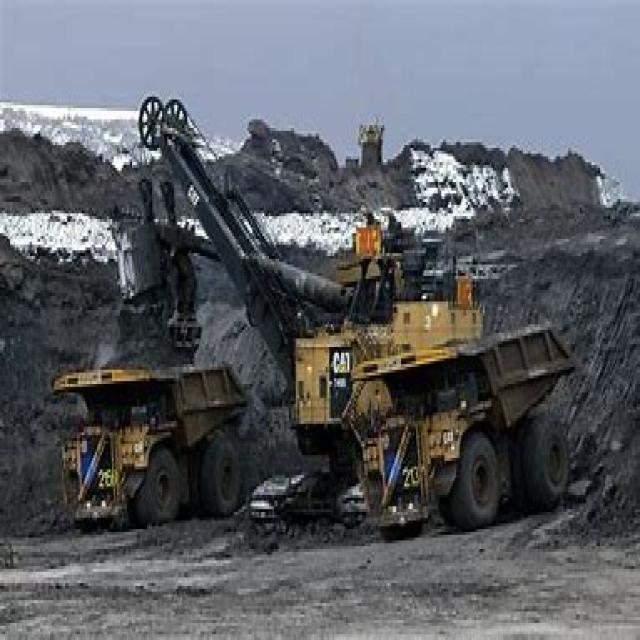dump_truck: (341, 313, 571, 532), (55, 341, 241, 529)
